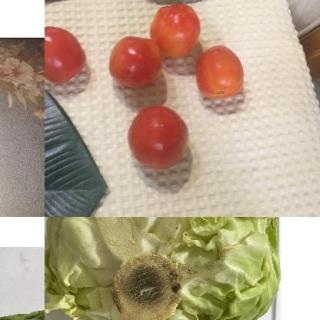Tomat: (45, 6, 257, 182)
